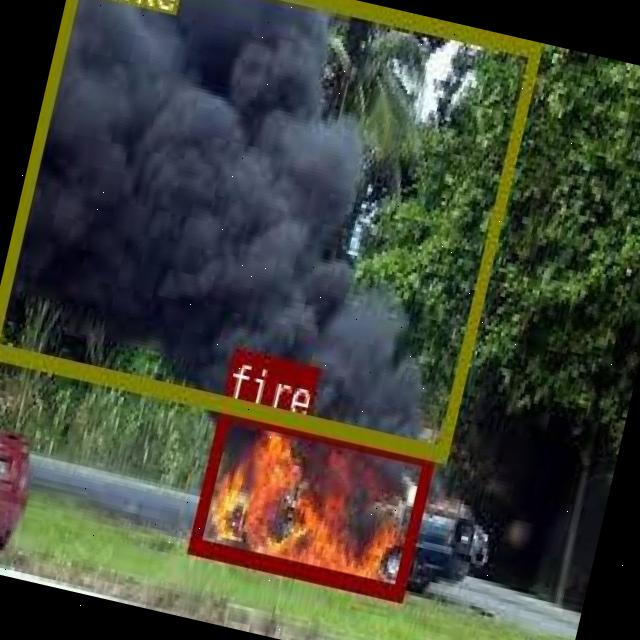fire: (187, 400, 435, 597)
smoke: (0, 0, 539, 460)
